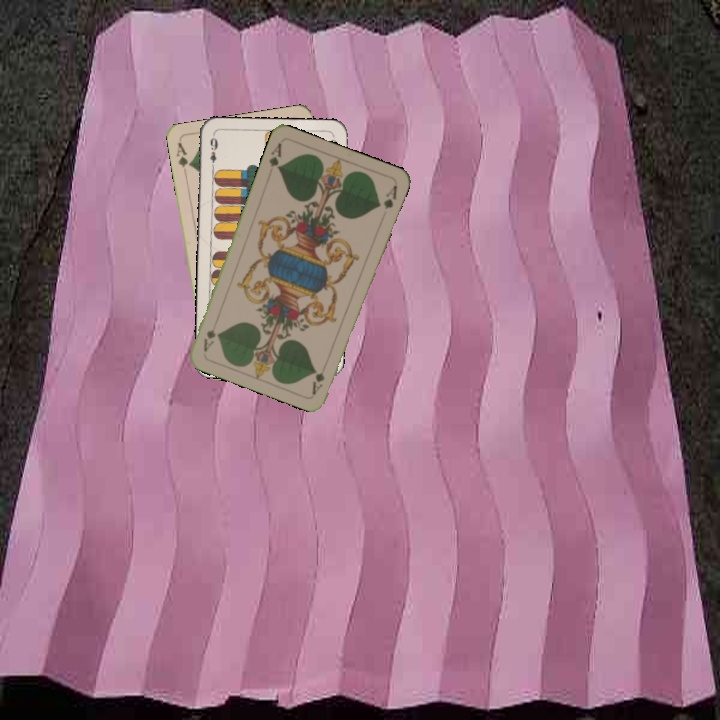E9: (206, 132, 220, 173)
GA: (172, 138, 194, 179), (308, 357, 329, 396), (265, 139, 284, 173)
